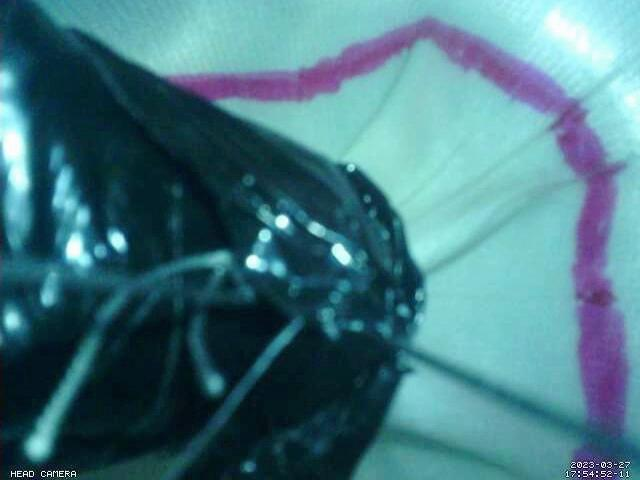red-circle: (164, 16, 631, 480)
